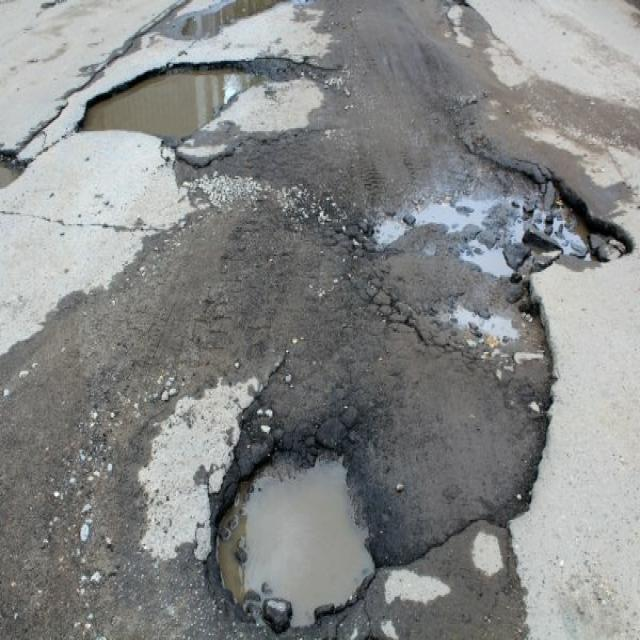Pothole: (170, 376, 483, 640), (357, 106, 640, 339), (50, 43, 337, 179)
